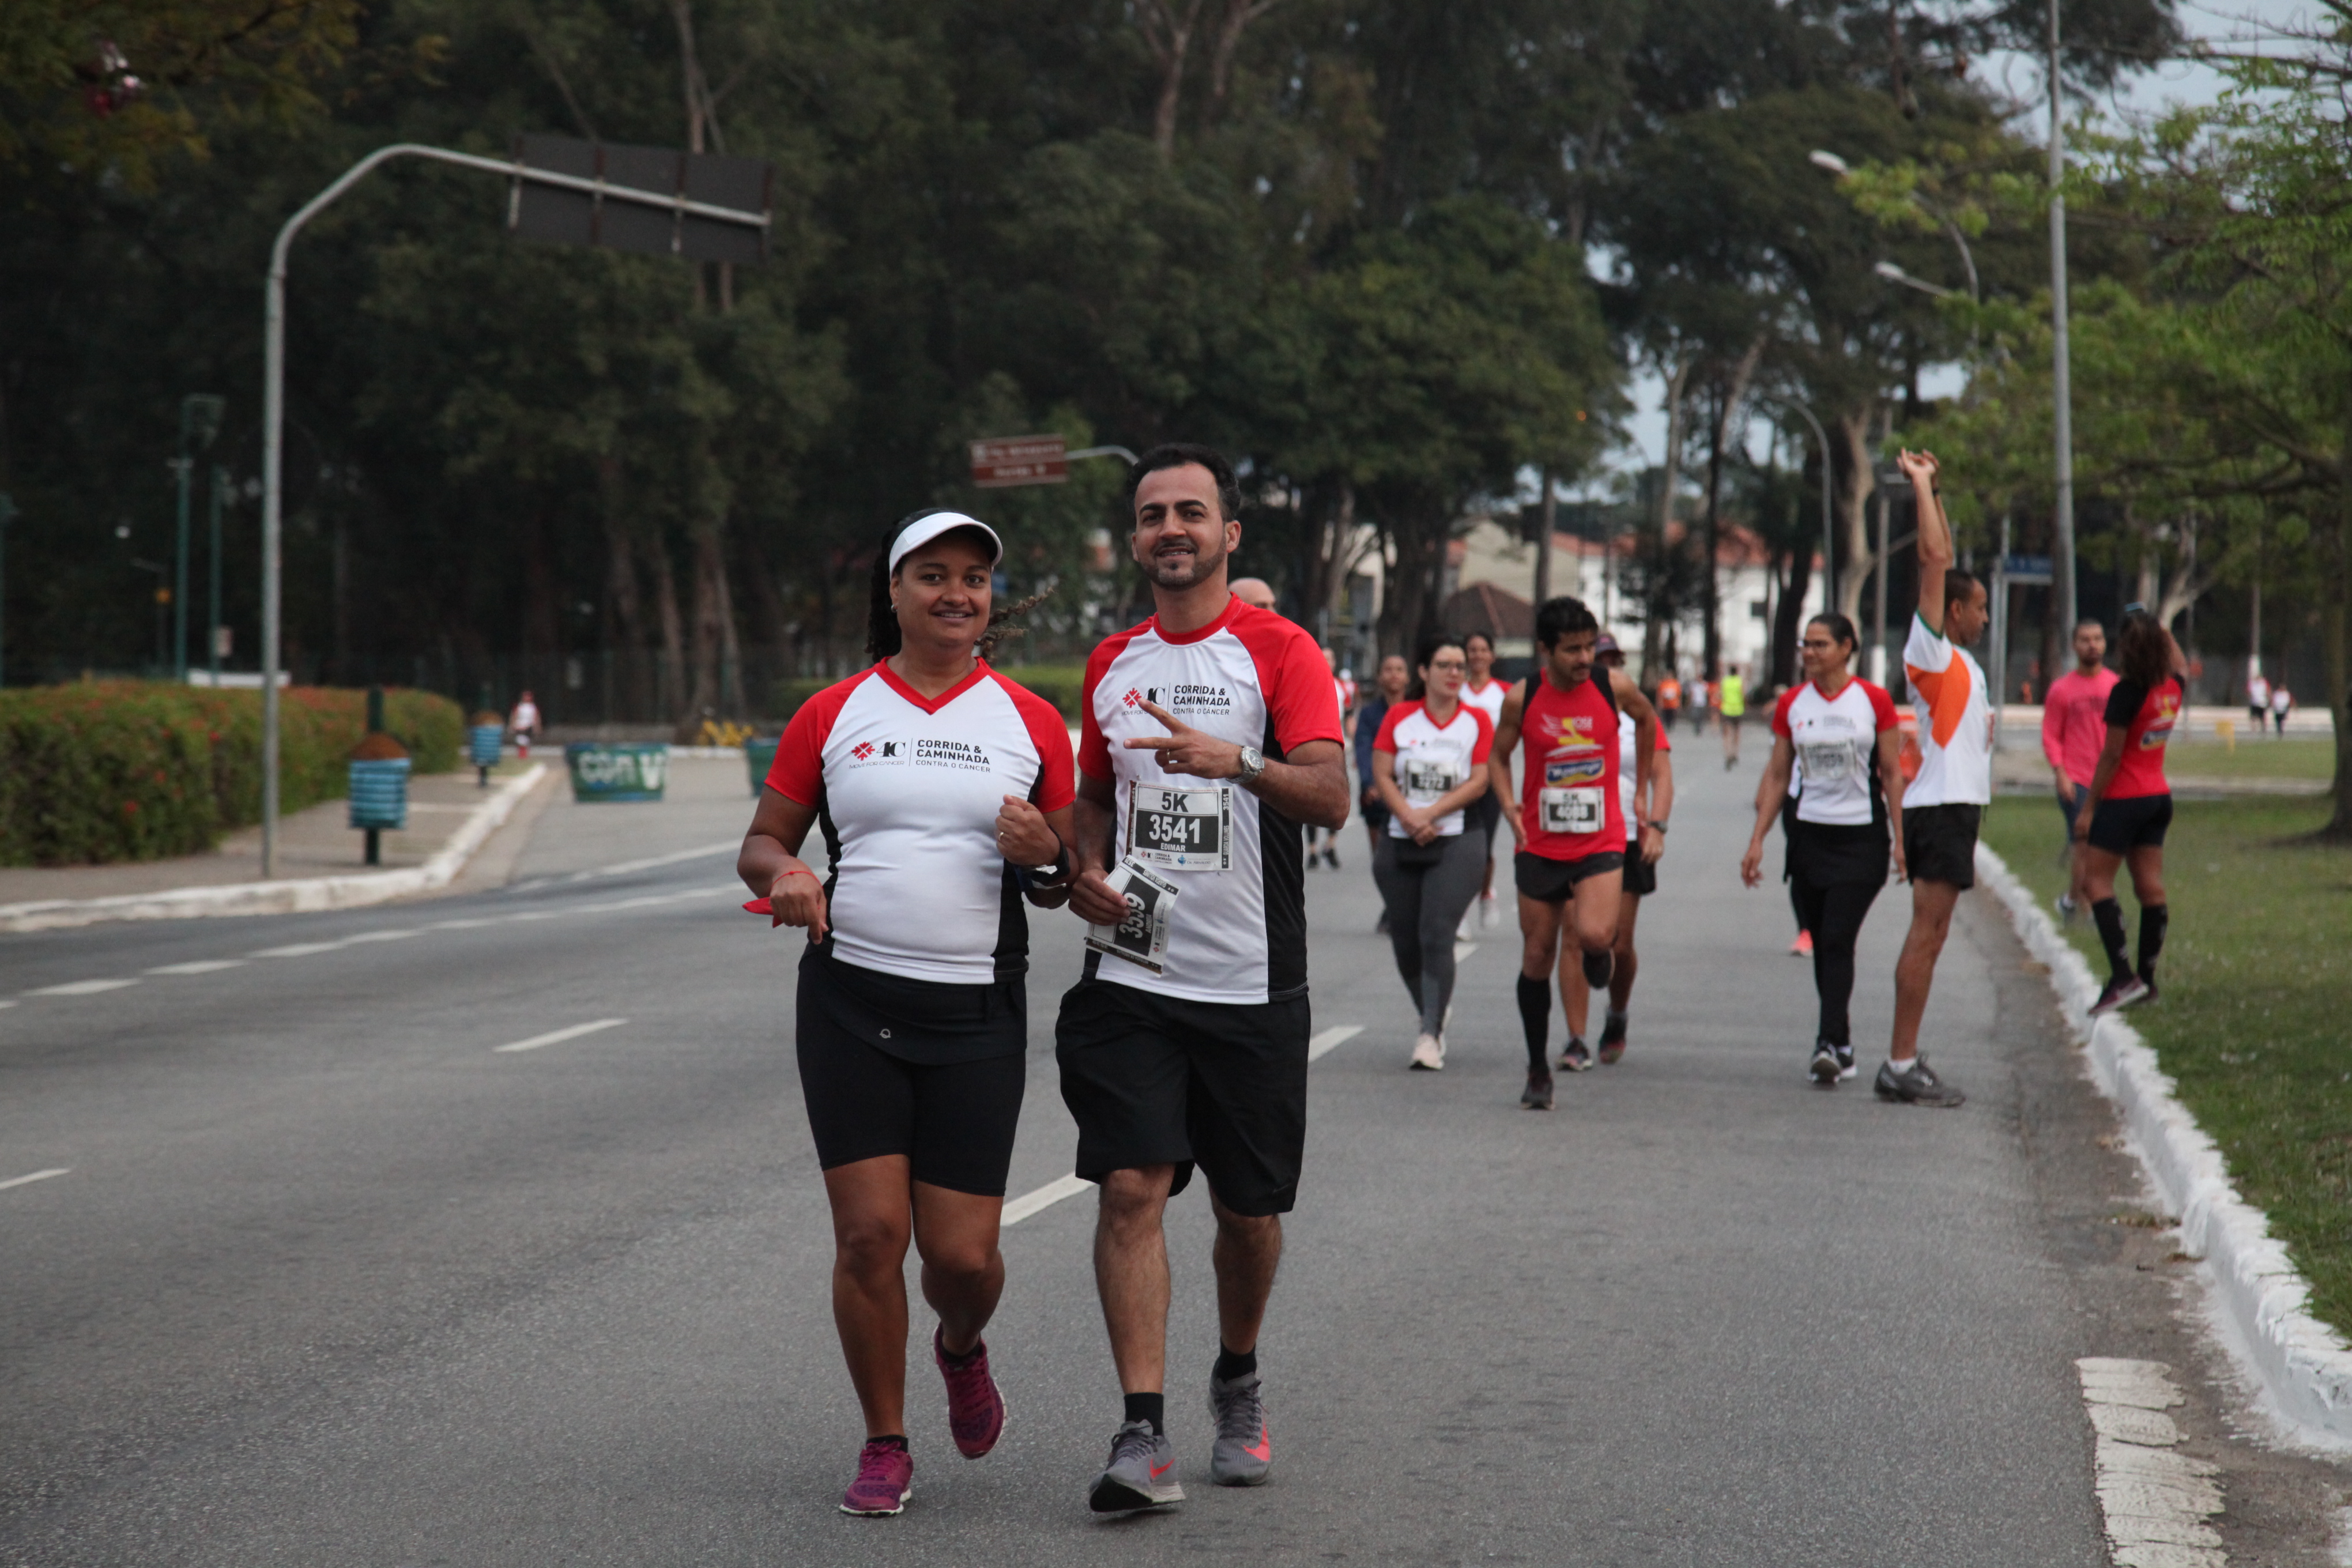bibtag: (1111, 754, 1251, 891), (1529, 775, 1613, 849)
